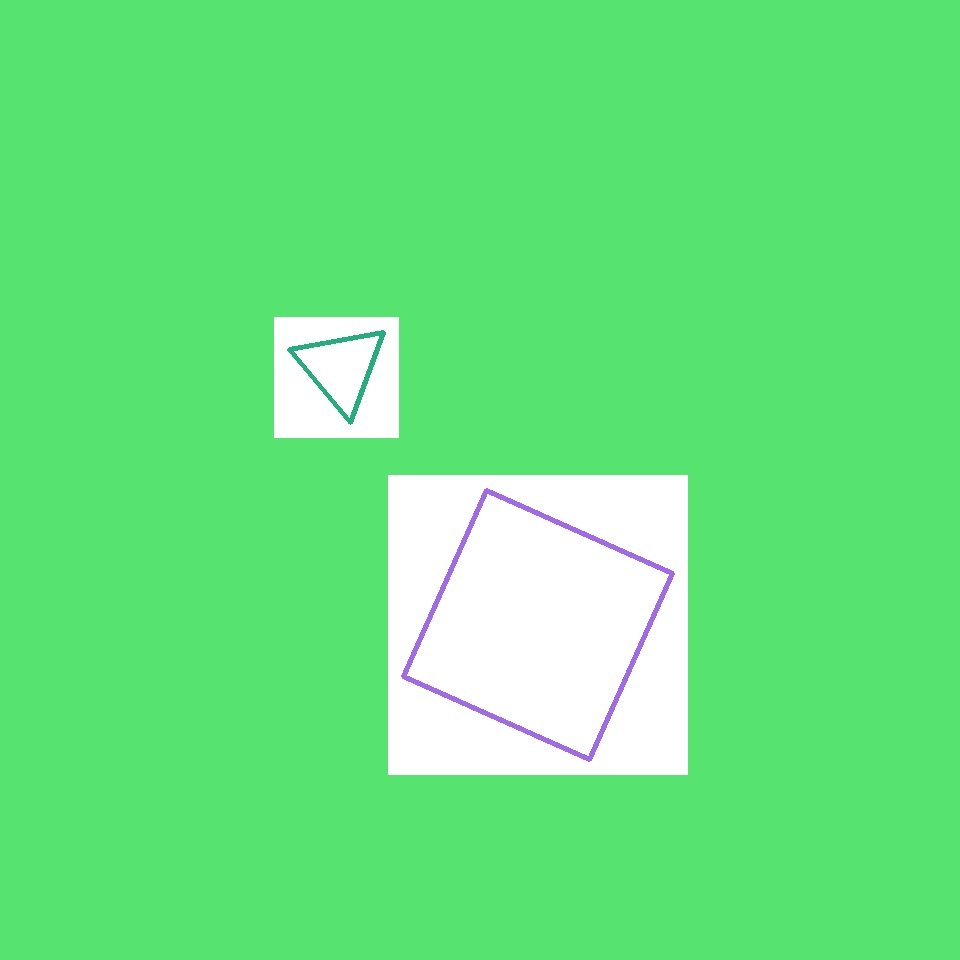circle: (716, 393, 826, 491), (294, 323, 388, 413)
square: (404, 490, 672, 760)
triangle: (322, 496, 652, 826), (390, 360, 652, 624), (397, 510, 520, 634)
